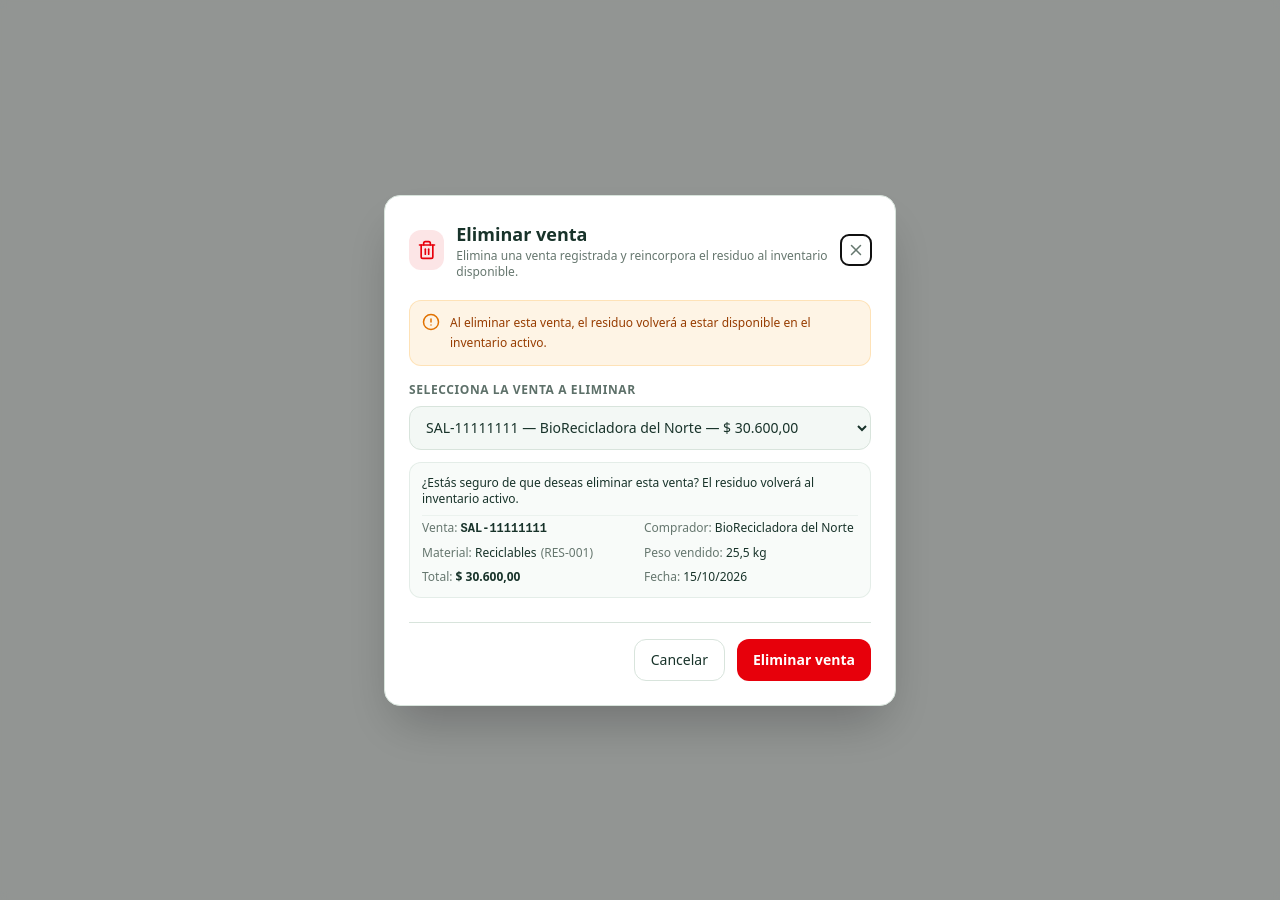
Test: DeleteSaleModal Component - Eliminación Segura de Ventas › 4. Actualiza los detalles al cambiar la venta seleccionada en el selector
Select "SAL-22222222 — Composteras de la Sabana — $ 50.000,00" in the dropdown with test id "delete-sale-select": (640,428) [409,406,871,450]
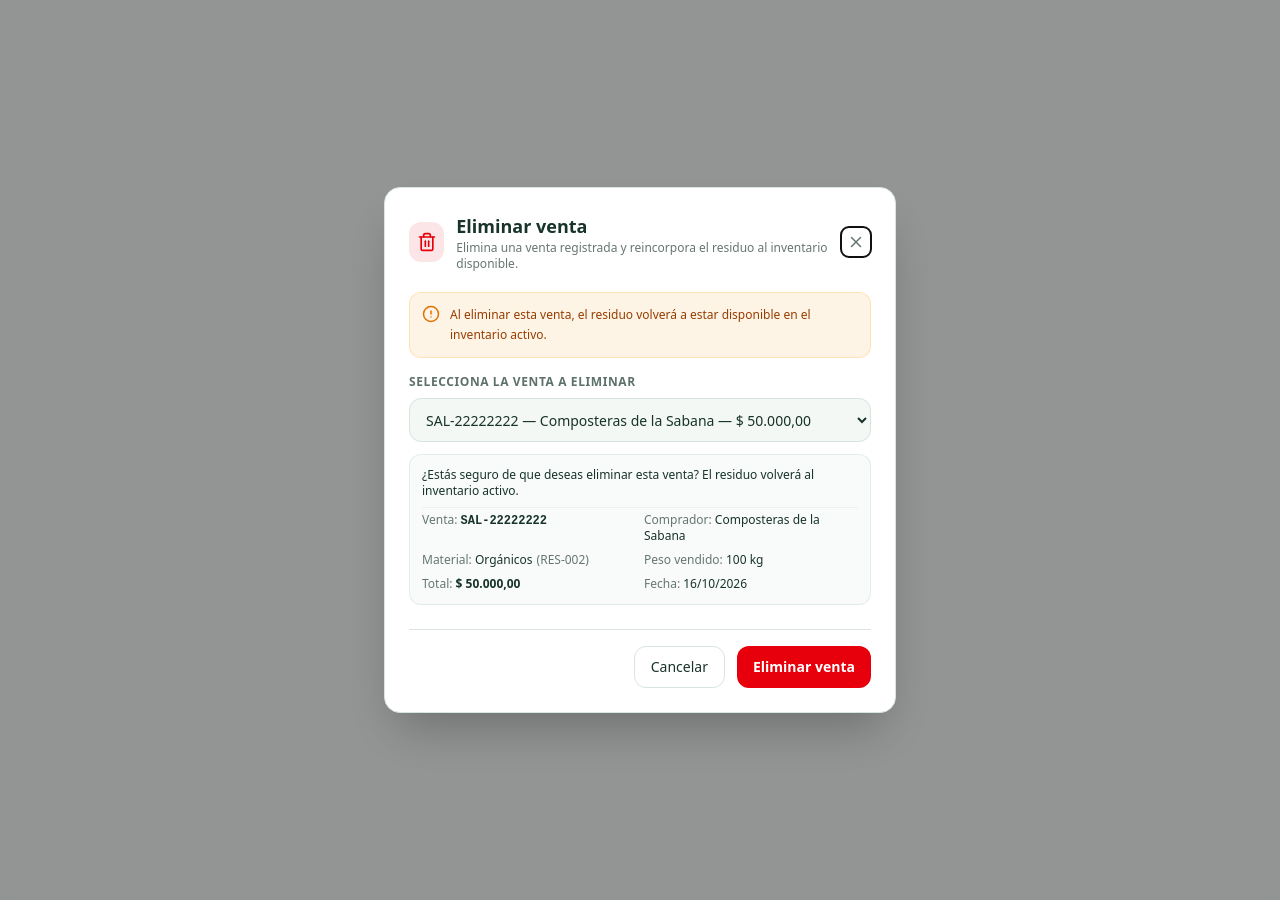
Check: the text "SAL-22222222" is shown, box [461,514,547,528]
Check: the text "Composteras de la Sabana" is shown, box [644,511,820,544]
Check: the text "(RES-002)" is shown, box [537,551,589,568]
